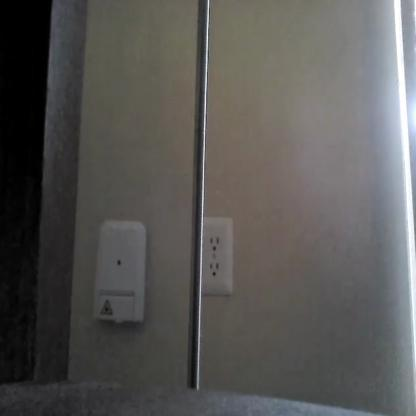OUTLET: (203, 216, 234, 296)
